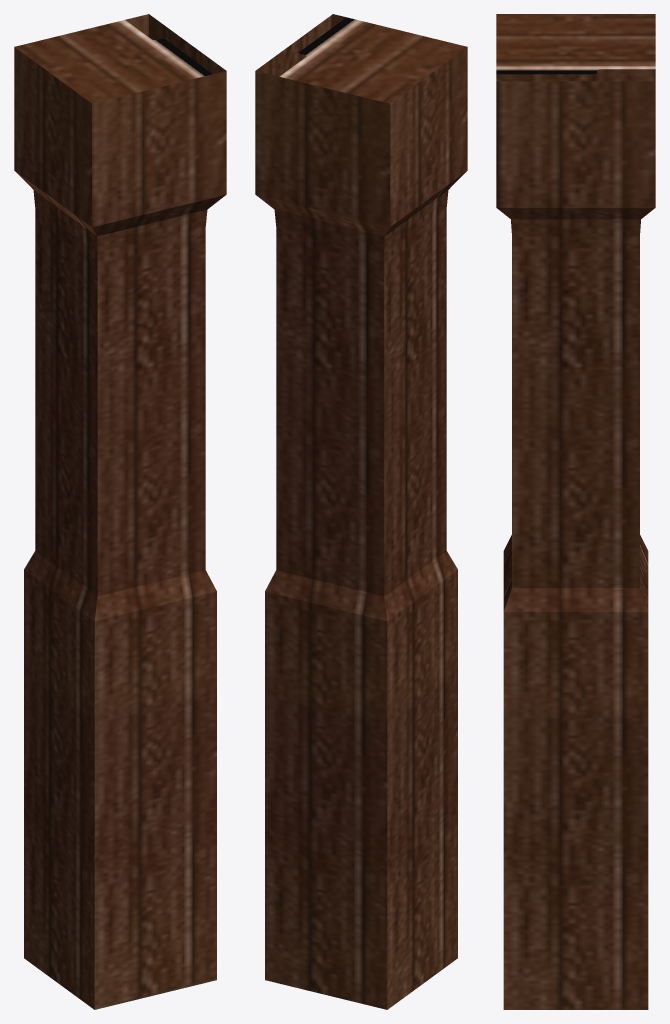
File: Pillar1.fbx
3 views of the same model, side by side, from view 1: azimuth 30°, elevation 25°; view 2: azimuth 150°, elevation 25°; view 3: azimuth 270°, elevation 25° (orthographic). The views are drawn at different scales.
Visible parts, largest first — view 1: Cube.010; view 2: Cube.010; view 3: Cube.010.
Boxes of the visible parts, x1=… form: Cube.010: x1=14, y1=14, x2=226, y2=1009; Cube.010: x1=255, y1=14, x2=467, y2=1009; Cube.010: x1=496, y1=14, x2=655, y2=1009.
Size of the model in its own units: 74.87 by 484 by 74.87.
Materials: 1 (1 with a texture image).
